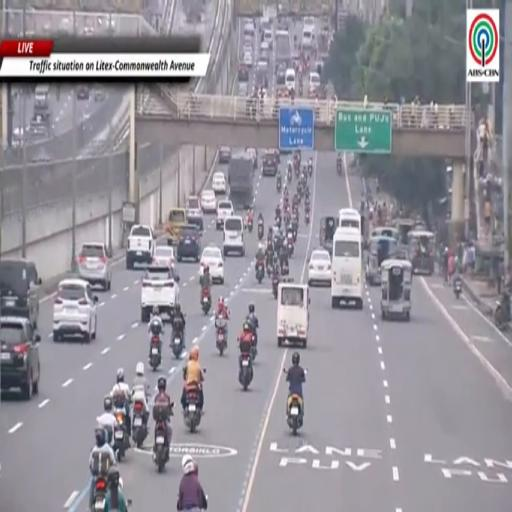bus: (331, 228, 363, 309), (338, 208, 361, 234)
car: (0, 316, 40, 399), (0, 260, 41, 328), (53, 279, 97, 342), (141, 266, 179, 323), (77, 243, 112, 290), (126, 224, 154, 269), (223, 216, 245, 257), (200, 246, 224, 283), (177, 224, 200, 262), (308, 249, 331, 285), (153, 246, 176, 273), (186, 197, 203, 231), (216, 200, 233, 230), (262, 150, 278, 175), (201, 189, 217, 213), (212, 172, 226, 195), (218, 146, 232, 164), (246, 148, 257, 169), (238, 66, 248, 89), (309, 72, 320, 91), (263, 29, 273, 49), (76, 85, 89, 100), (94, 86, 106, 102), (303, 16, 315, 31), (237, 82, 248, 97), (257, 54, 268, 69), (244, 21, 254, 37), (243, 53, 253, 67), (243, 41, 253, 53), (260, 41, 269, 53)
jeepney: (381, 260, 412, 321), (366, 235, 398, 285), (408, 230, 435, 275), (166, 208, 187, 245), (319, 217, 337, 254), (394, 218, 415, 246), (370, 227, 399, 243)
motorcycle: (154, 408, 171, 472), (183, 389, 201, 433), (114, 408, 128, 461), (132, 400, 147, 447), (92, 476, 107, 511), (239, 355, 253, 391), (493, 299, 509, 330), (216, 316, 227, 356), (150, 335, 161, 371), (172, 330, 184, 359), (201, 288, 211, 315), (250, 335, 258, 362), (286, 233, 294, 257), (256, 261, 264, 283), (454, 278, 462, 298), (272, 277, 279, 298), (281, 262, 289, 276), (292, 221, 297, 243), (258, 221, 264, 239), (247, 217, 253, 232), (305, 210, 310, 226), (275, 216, 281, 229), (277, 174, 281, 193), (337, 160, 342, 175), (308, 163, 313, 177), (287, 168, 291, 183), (295, 166, 300, 178), (283, 368, 287, 374)
truck: (228, 153, 254, 209)
